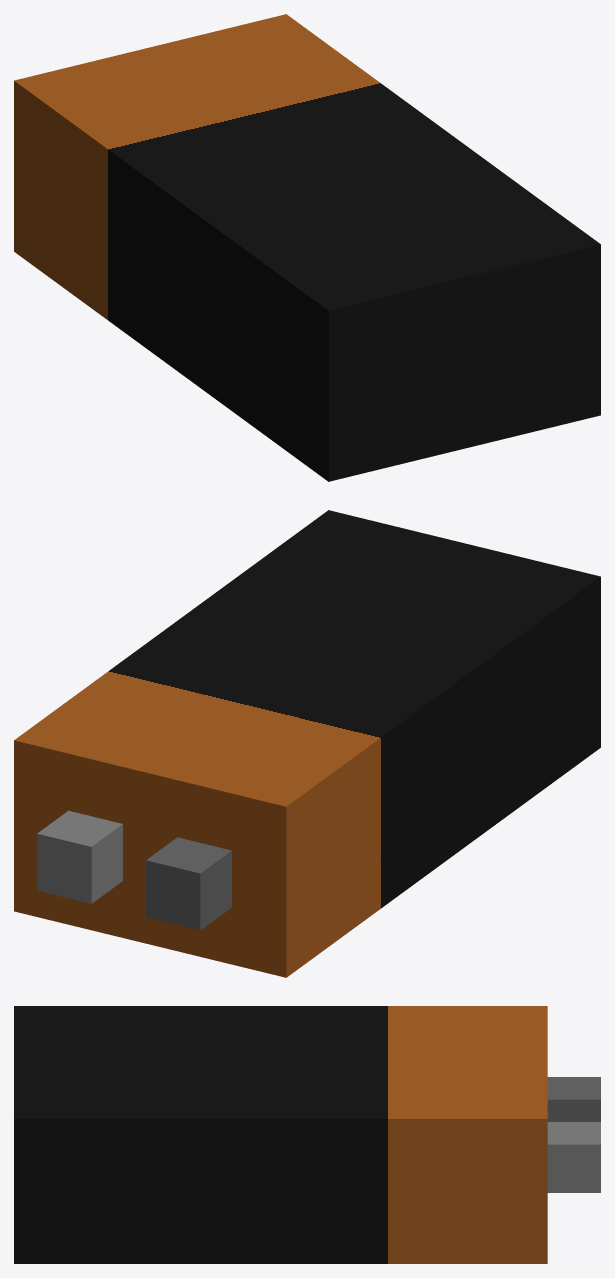
The model's file is battery.dae.
The picture shows the model from 3 angles, top to bottom: view 1: azimuth 30°, elevation 25°; view 2: azimuth 150°, elevation 25°; view 3: azimuth 270°, elevation 25°; orthographic projection. The views are drawn at different scales.
Visible parts, largest first — view 1: battery; view 2: battery; view 3: battery.
Part boxes in pixels (box(x1,y1,x2,y2)): battery: box(14, 14, 600, 481); battery: box(14, 510, 600, 977); battery: box(14, 1006, 600, 1263).
Size of the model in its own units: 0.5 by 0.3 by 1.1.
Materials: 1 (1 with a texture image).
